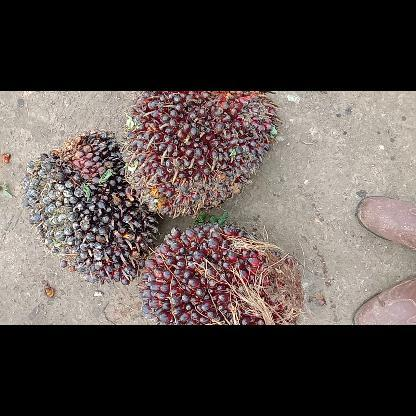Kurang masak: (124, 90, 276, 220), (138, 224, 302, 324)
TBS mentah: (22, 132, 158, 282)
